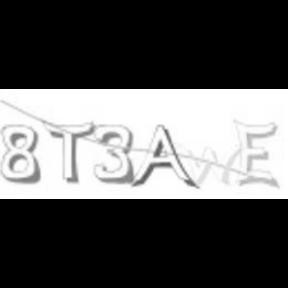3: (90, 123, 136, 185)
8: (0, 123, 42, 185)
A: (131, 124, 200, 190)
E: (231, 116, 281, 192)
T: (43, 120, 95, 186)
w: (178, 140, 242, 188)
